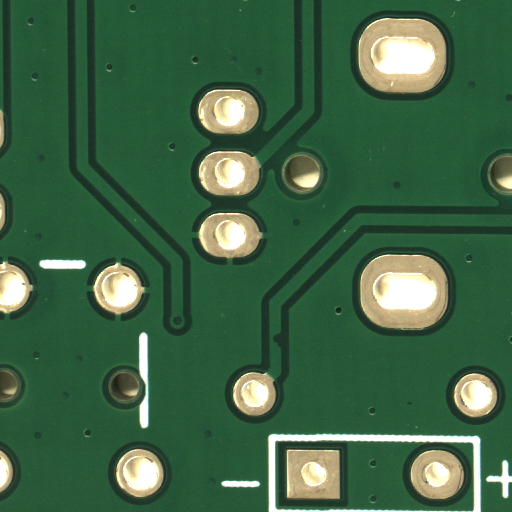Mouse_bite: (277, 340, 286, 355)
